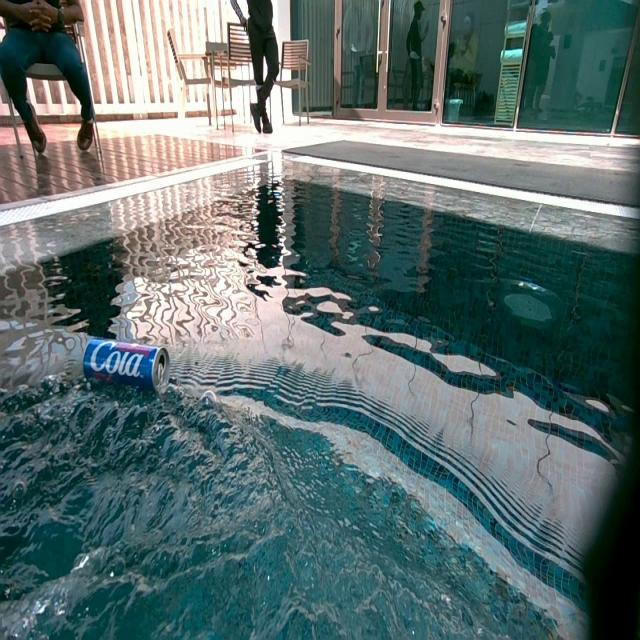Cans: (84, 336, 170, 398)
